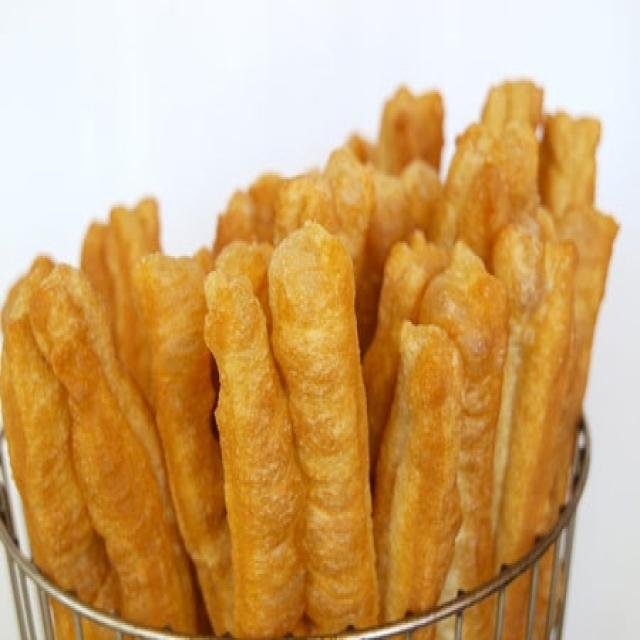炸货点心: (16, 49, 617, 623)
